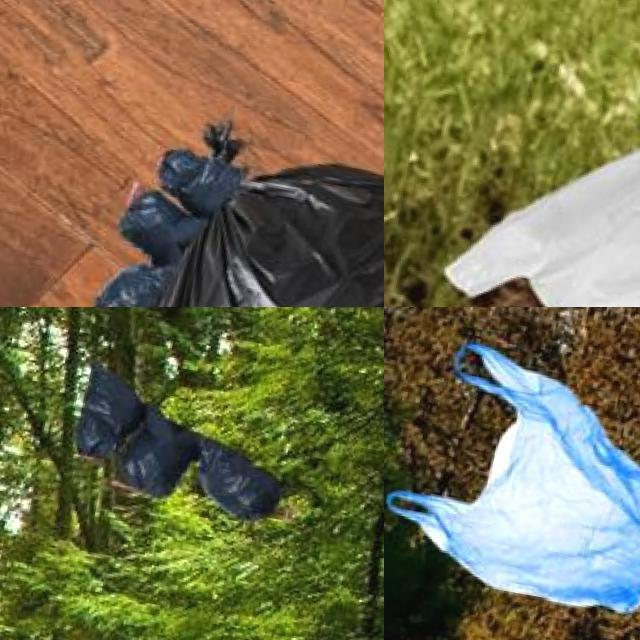waste: (384, 333, 640, 631), (431, 51, 640, 307), (100, 145, 384, 307), (148, 136, 250, 224), (118, 408, 207, 508), (187, 441, 290, 526), (68, 368, 135, 464)
